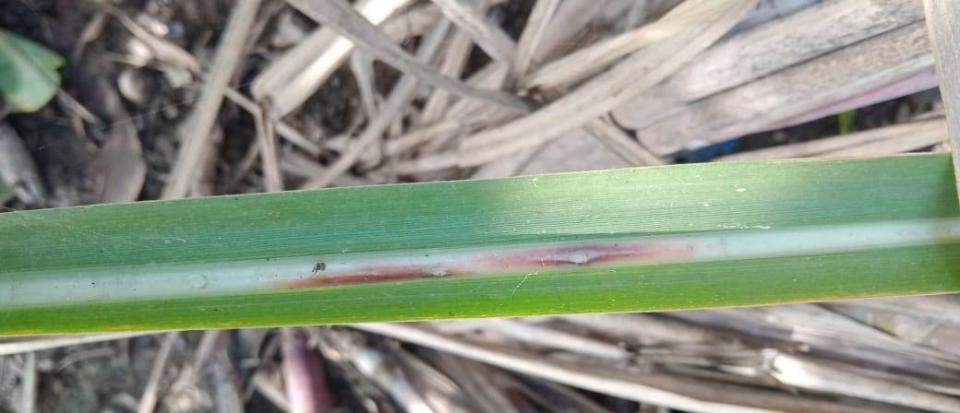RedRot: (258, 238, 703, 291)
